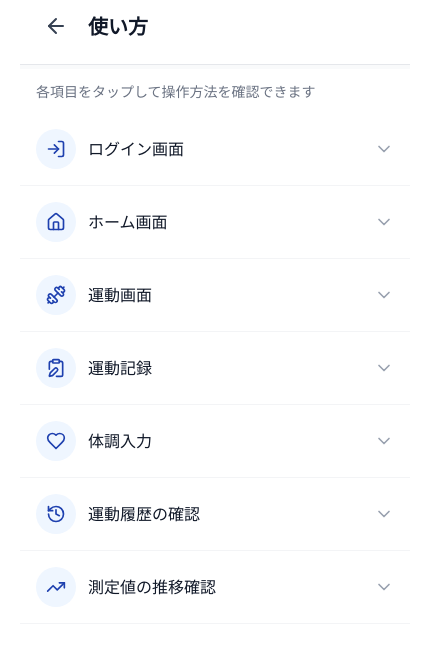
it: UserGuide（使い方） › accordion interaction › should expand section when clicked
The image size is (431, 670).
Click the button "ログイン画面" at (56, 149), box top-left (20, 113), bottom-right (410, 185)
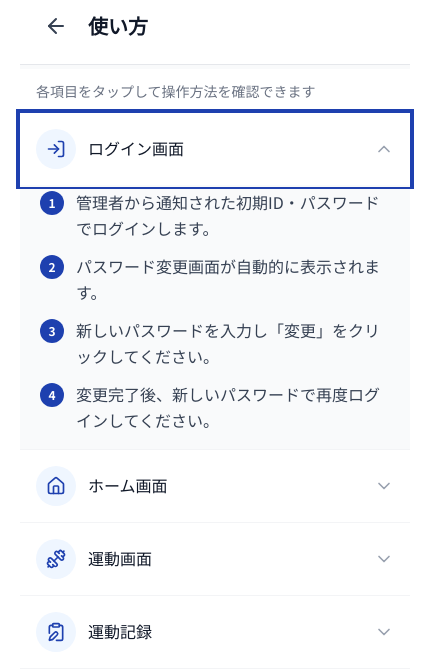
Expected: the text "管理者から通知された初期ID・パスワードでログインします。" is shown, top-left (76, 189), bottom-right (394, 241)
